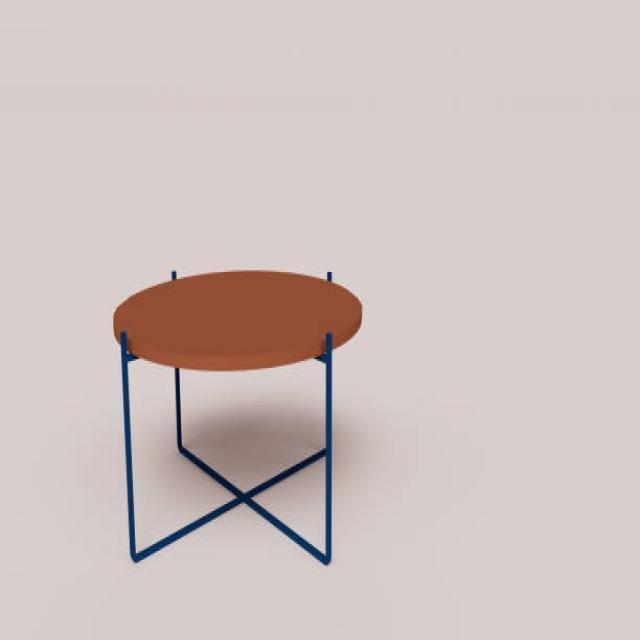table: (112, 267, 362, 565)
